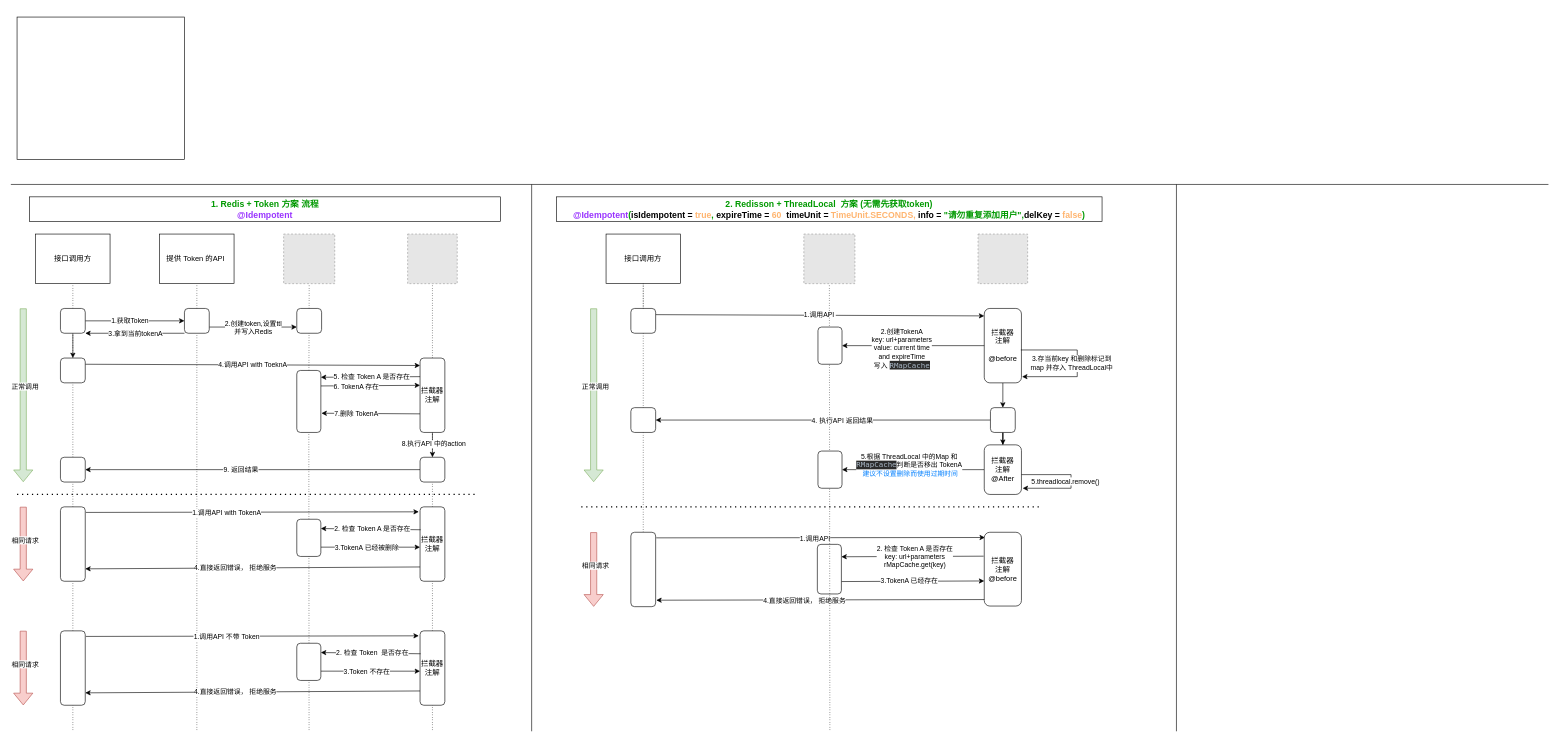
Some shapes in this 1560 by 743 pixel diagram are drawn without their labels. Grey dashed boxes stand in for pictures. Here are the shapes that lost their labels. From the top down, the box of each, then its label:
(16, 16, 184, 160): 幂等 - idempotent 解决方案： 1. Redis + token 2. Redis + threadLocal
(990, 407, 1015, 432): API
